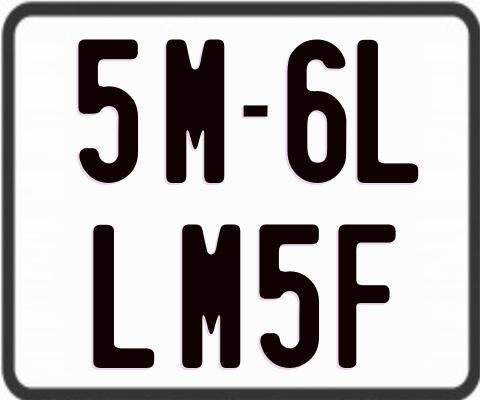5: (76, 39, 139, 184), (256, 222, 316, 367)
6: (285, 40, 349, 183)
F: (336, 223, 396, 370)
L: (357, 37, 419, 184), (92, 222, 153, 368)
M: (166, 38, 226, 186), (181, 223, 241, 367)
